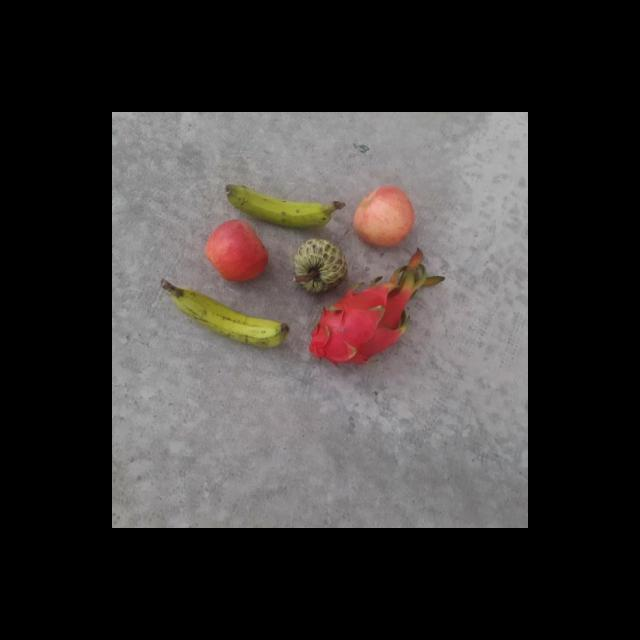Sakya fruit: (289, 237, 347, 294)
apple: (204, 218, 270, 282), (352, 185, 414, 248)
banana: (171, 278, 291, 350), (223, 178, 340, 230)
pitaya: (305, 285, 407, 369)
